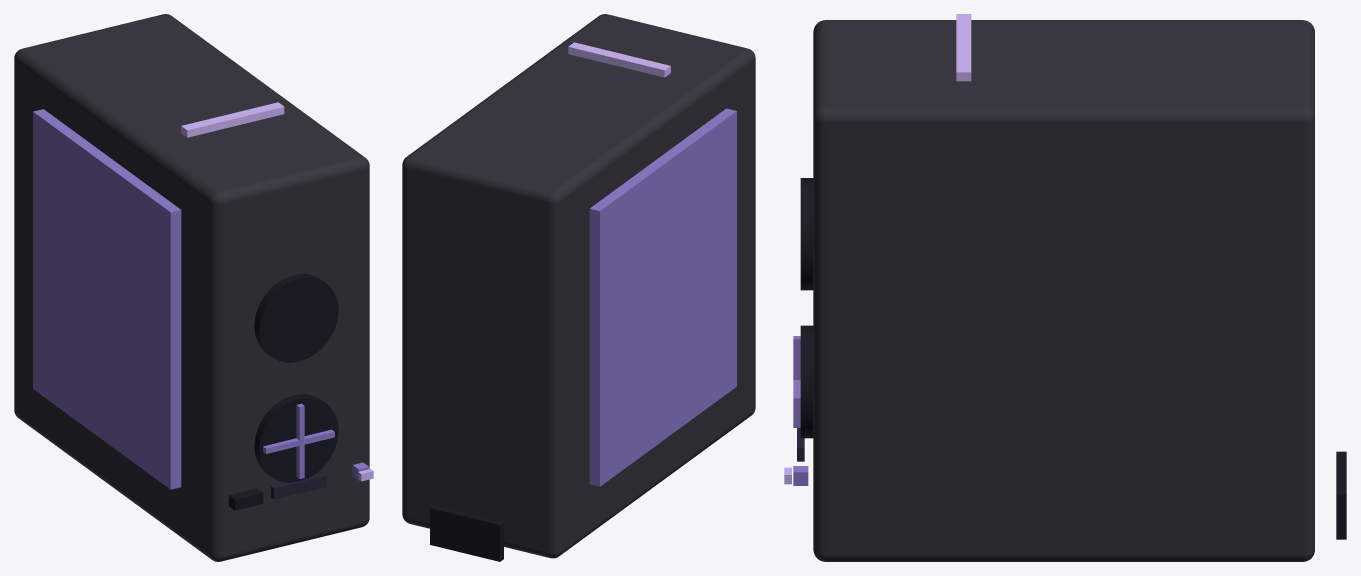
3 renders of one model, left to right at view 1: azimuth 30°, elevation 25°; view 2: azimuth 150°, elevation 25°; view 3: azimuth 270°, elevation 25°, orthographic. The views are drawn at different scales.
Parts seen in each view (by area): view 1: computer-body, side-panel, front-fan-0.25, front-fan-0.12, top-status-bar, screen-surface, fan-cross-right, fan-cross-left, computer-detail; view 2: computer-body, side-panel, power-port-back, top-status-bar; view 3: computer-body, front-fan-0.12, front-fan-0.25, top-status-bar, power-port-back.
Boxes of the visible parts, x1,y1,x2,y2 form: computer-body: (14, 14, 369, 561); side-panel: (33, 109, 181, 489); front-fan-0.25: (254, 273, 338, 362); front-fan-0.12: (254, 394, 338, 482); top-status-bar: (181, 102, 284, 137); screen-surface: (271, 473, 326, 499); fan-cross-right: (296, 403, 304, 479); fan-cross-left: (263, 429, 334, 453); computer-detail: (229, 488, 263, 510); computer-body: (402, 14, 755, 558); side-panel: (589, 108, 736, 486); power-port-back: (430, 505, 503, 561); top-status-bar: (568, 42, 670, 77); computer-body: (813, 20, 1314, 561); front-fan-0.12: (800, 325, 813, 438); front-fan-0.25: (800, 178, 813, 290); top-status-bar: (956, 14, 971, 81); power-port-back: (1336, 451, 1346, 539).
Bounding box in the file's own units: 0.192 × 0.418 × 0.448.
